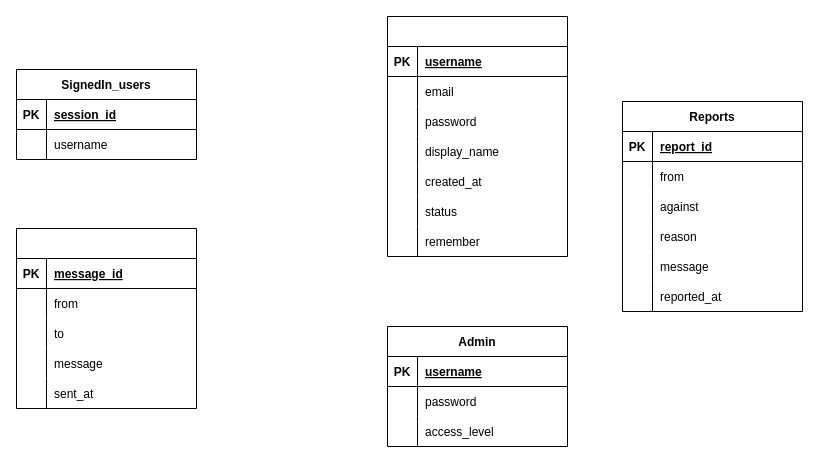
Some shapes in this 819 by 463 pixel diagram are drawn without their labels. Each missing label, with the box of its shape:
messages: (16, 228, 196, 408)
Users: (386, 16, 568, 256)
